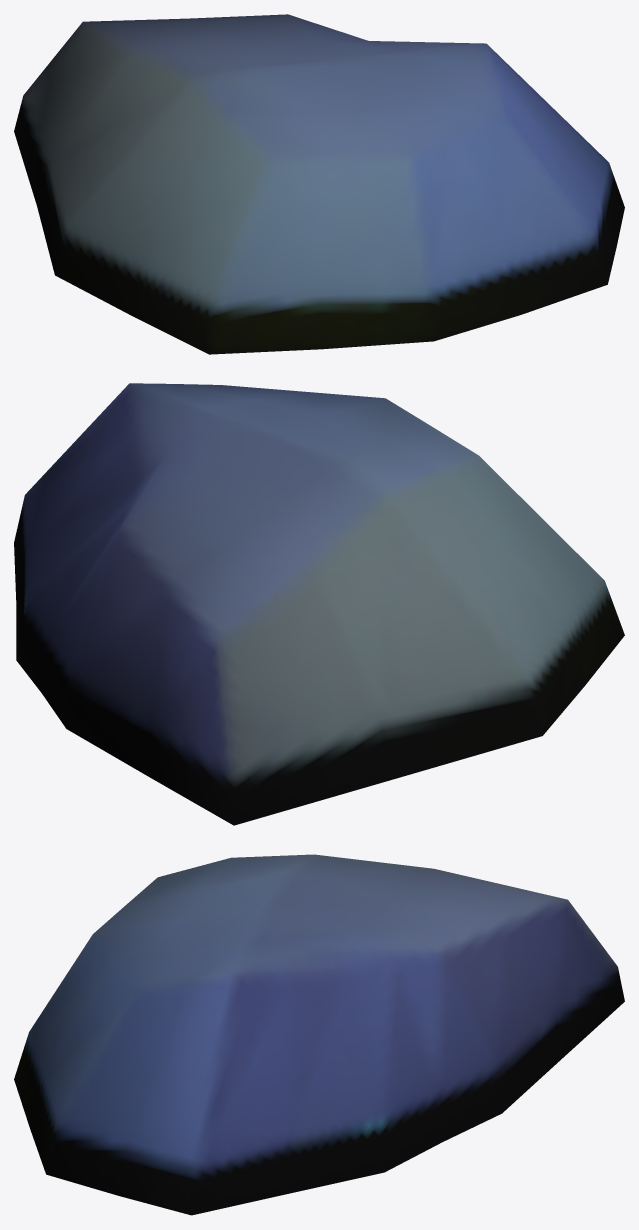
File: Swamp_Rocks_4.glb
3 renders of one model, top to bottom at view 1: azimuth 30°, elevation 25°; view 2: azimuth 150°, elevation 25°; view 3: azimuth 270°, elevation 25°, orthographic. The views are drawn at different scales.
Parts seen in each view (by area): view 1: Cube.006; view 2: Cube.006; view 3: Cube.006.
Part boxes in pixels (x1=…): Cube.006: x1=14, y1=14, x2=624, y2=354; Cube.006: x1=14, y1=383, x2=624, y2=825; Cube.006: x1=14, y1=854, x2=624, y2=1215.
Size of the model in its own units: 46.27 by 16.29 by 47.68.
Materials: 1 (1 with a texture image).
